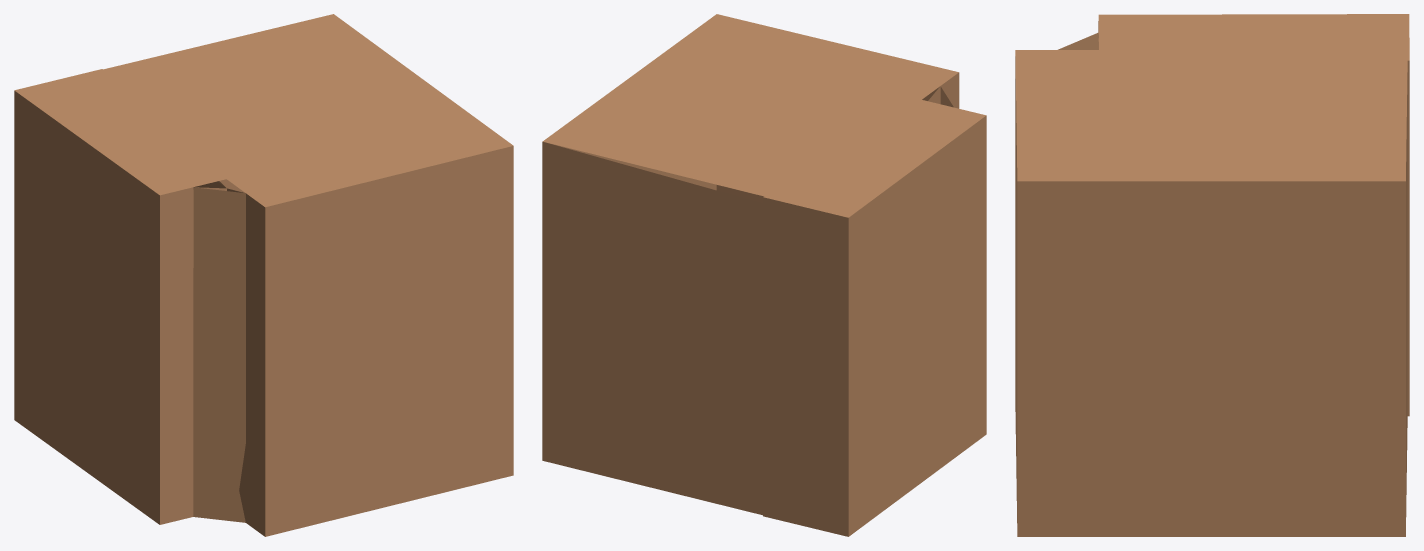
Rendered from Edge_K_1.fbx.
3 views of the same model, side by side, from view 1: azimuth 30°, elevation 25°; view 2: azimuth 150°, elevation 25°; view 3: azimuth 270°, elevation 25° (orthographic). The views are drawn at different scales.
Parts seen in each view (by area): view 1: Cube.156; view 2: Cube.156; view 3: Cube.156.
Part boxes in pixels (<box>): Cube.156: <box>14,14,513,536</box>; Cube.156: <box>542,14,986,536</box>; Cube.156: <box>1015,14,1409,536</box>.
Bounding box in the file's own units: 1.01 × 1 × 1.
